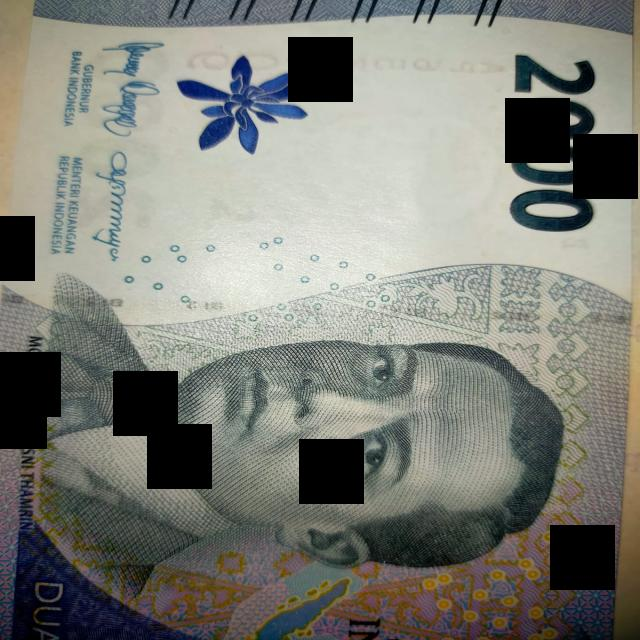dua ribu rupiah: (3, 0, 632, 640)
